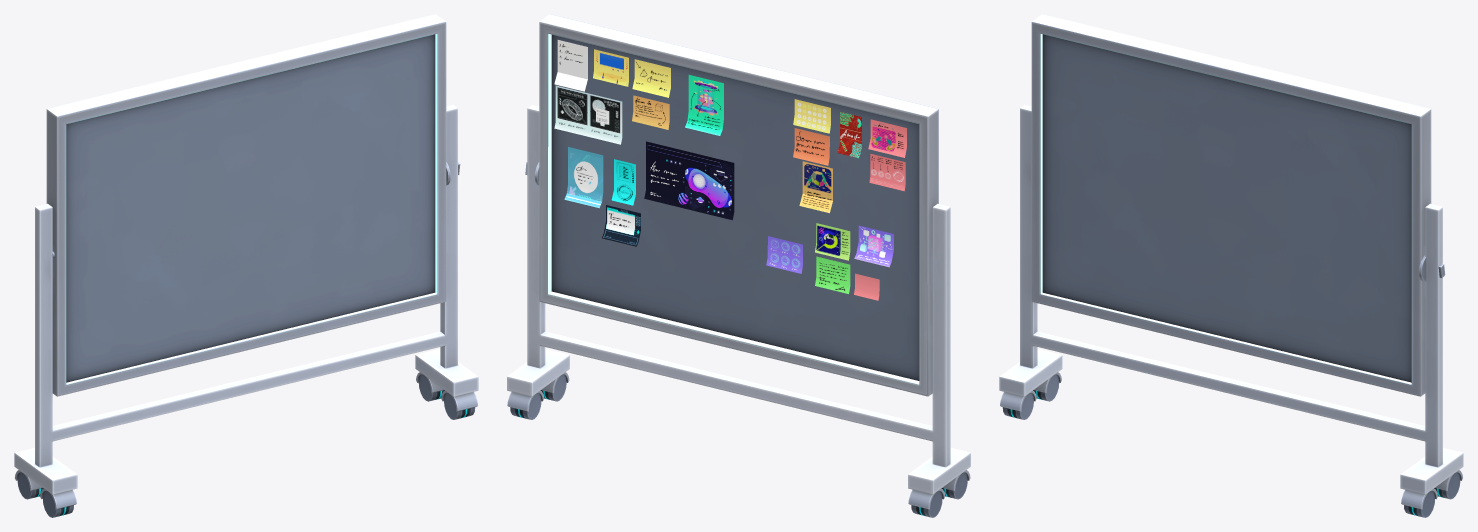
File: obj_board.gltf
The picture shows the model from 3 angles, left to right: view 1: azimuth 30°, elevation 25°; view 2: azimuth 150°, elevation 25°; view 3: azimuth 330°, elevation 25°; orthographic projection.
Parts seen in each view (by area): view 1: obj_board; view 2: obj_board; view 3: obj_board.
Part boxes in pixels (<box>): obj_board: <box>14,14,478,517</box>; obj_board: <box>507,14,970,517</box>; obj_board: <box>999,14,1463,517</box>.
Size of what is drawn, in the model's own units: 2.74 by 2.41 by 0.4672.
4 materials, 3 textured.
